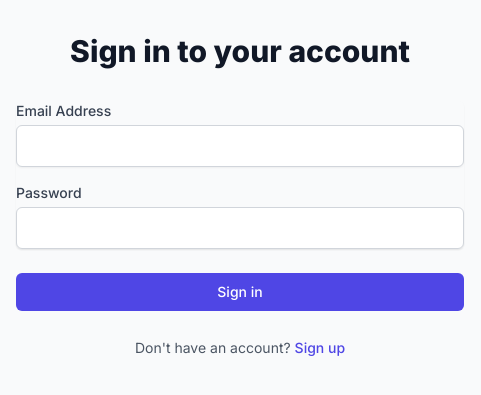
Test: LoginPage › should handle network errors
Type "test@example.com" into the field labelled "Email Address".
click(240, 146); type("test@example.com")  # box [16,125,464,167]
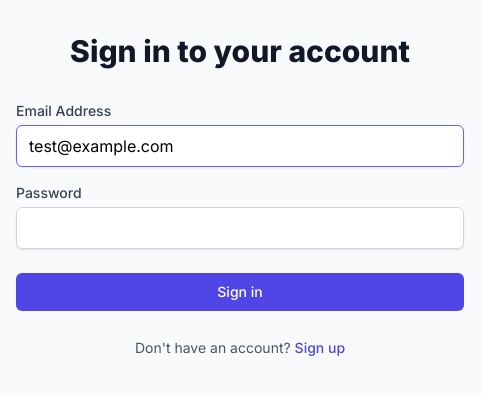
Type "password123" into the password field labelled "Password".
click(240, 228); type("password123")  # box [16,207,464,249]
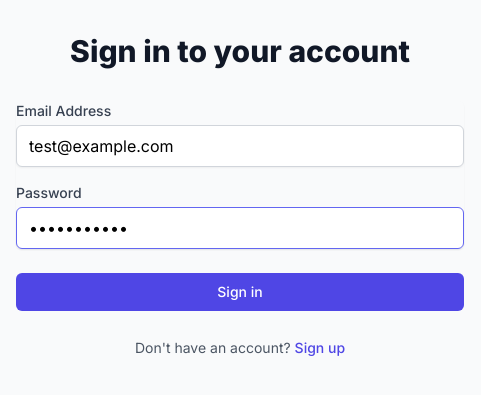
Click the button "Sign in".
click(240, 292)  # box [16,273,464,311]
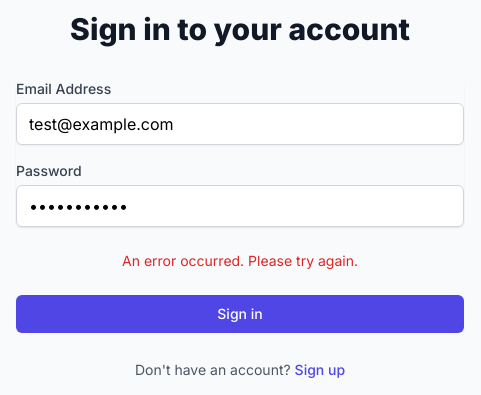
Now the text "An error occurred. Please try again." is shown, box [122,252,358,269]
